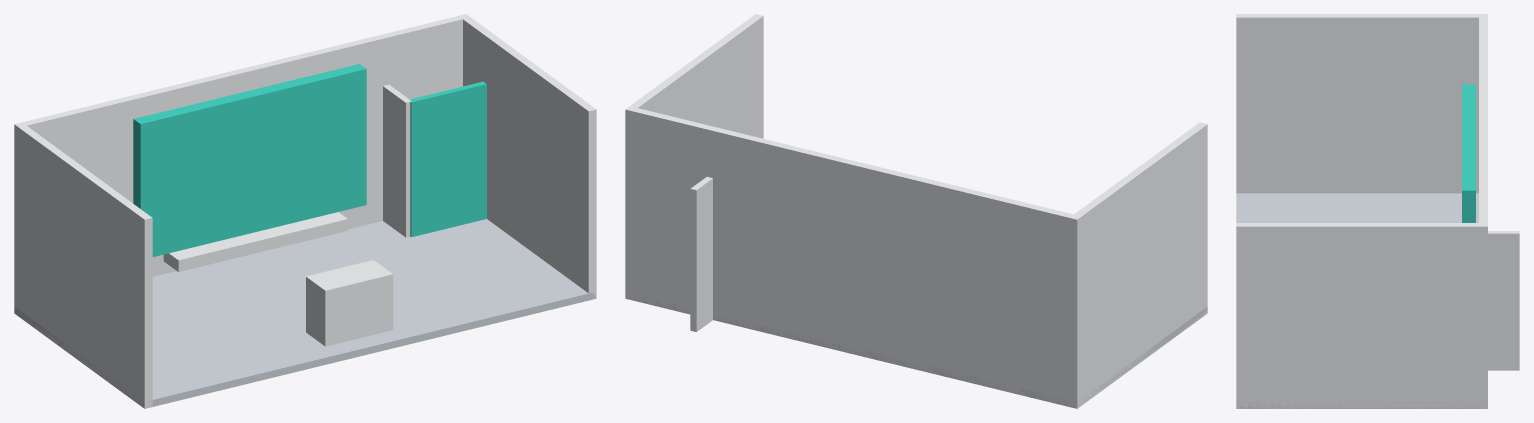
The picture shows the model from 3 angles, left to right: view 1: azimuth 30°, elevation 25°; view 2: azimuth 150°, elevation 25°; view 3: azimuth 270°, elevation 25°; orthographic projection. The views are drawn at different scales.
Parts seen in each view (by area): view 1: Exhibition Booth Concept; view 2: Exhibition Booth Concept; view 3: Exhibition Booth Concept.
Part boxes in pixels (x1,y1,x2,y2): Exhibition Booth Concept: (14,14,596,408); Exhibition Booth Concept: (625,14,1207,408); Exhibition Booth Concept: (1236,14,1519,408).
Bounding box in the file's own units: 8 × 3.2 × 4.51.
